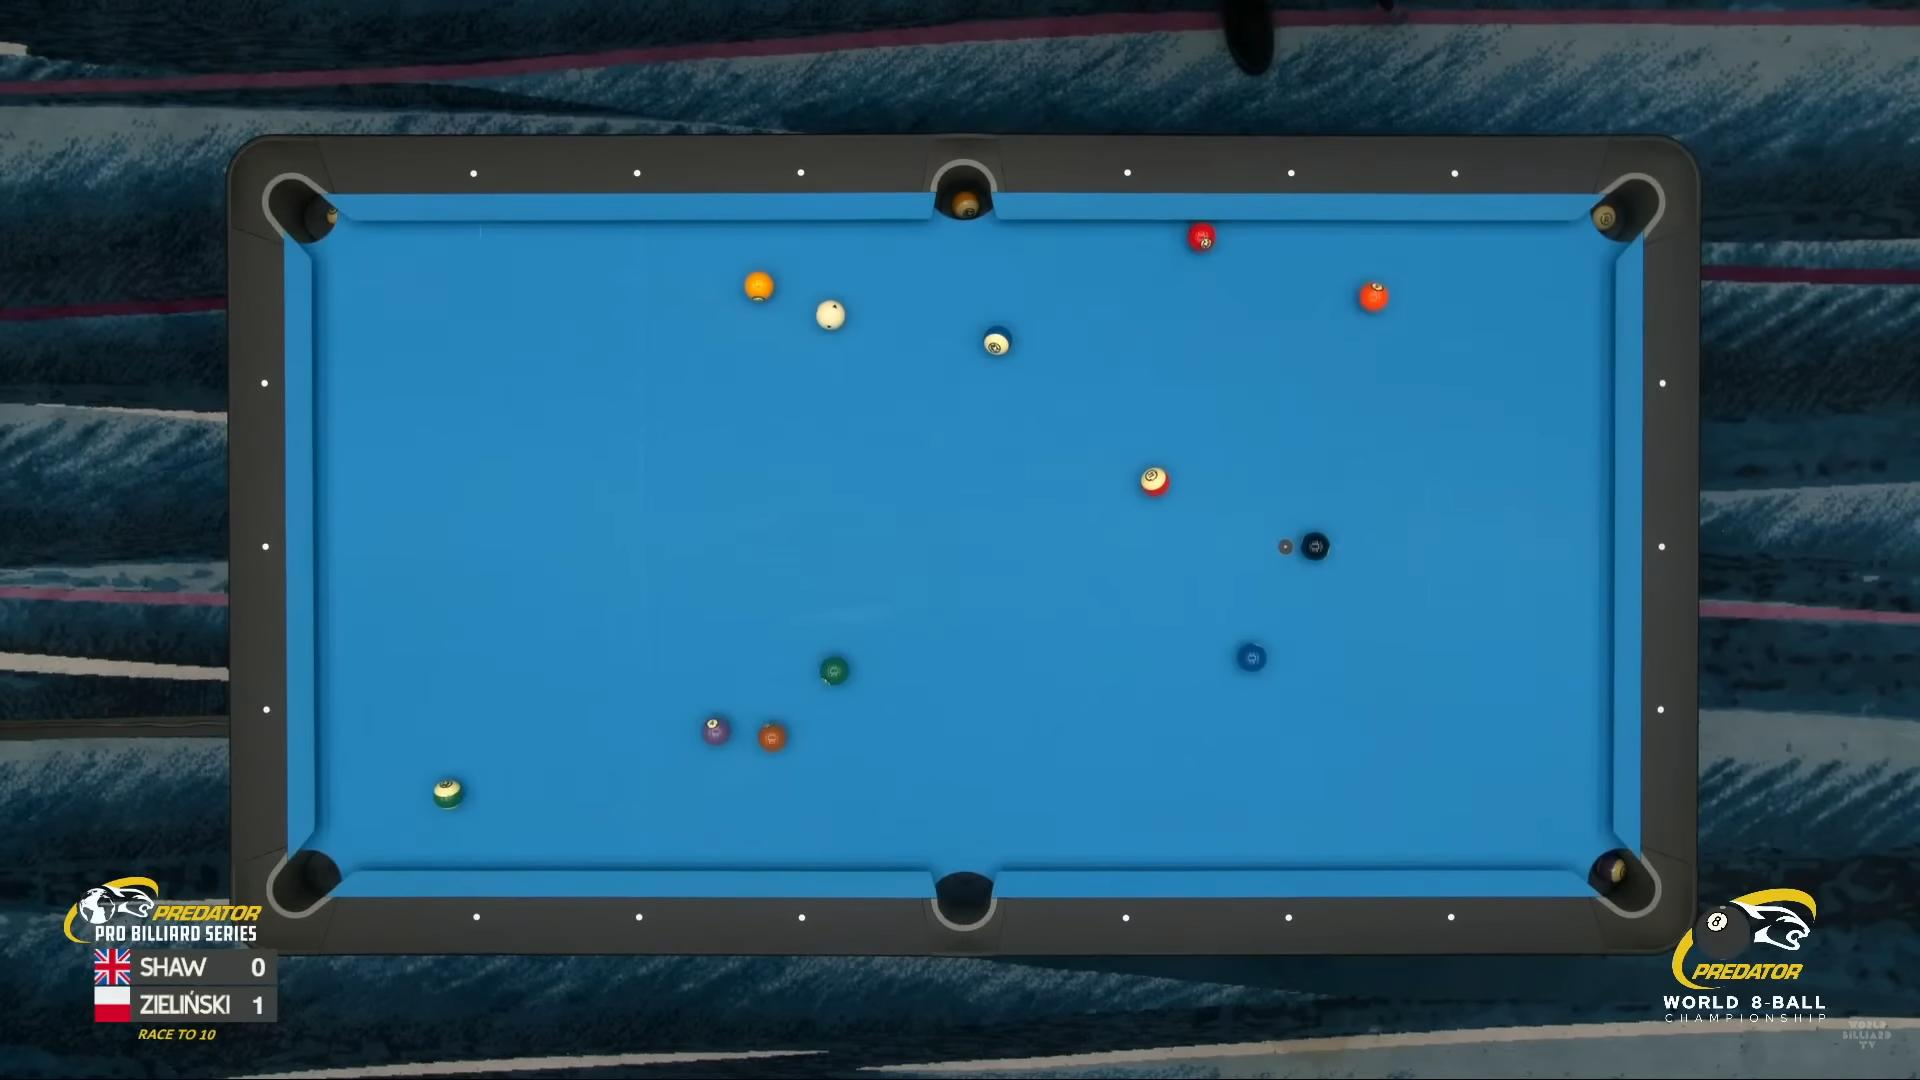Black: (1302, 531, 1331, 560)
Cue: (816, 301, 847, 331)
Dot: (257, 376, 272, 390), (465, 166, 480, 181), (1448, 166, 1462, 181), (1655, 377, 1669, 392), (1654, 703, 1668, 717), (794, 910, 808, 924), (632, 910, 646, 924), (630, 166, 645, 179), (794, 166, 808, 179), (1120, 166, 1134, 179), (1284, 166, 1299, 179), (1655, 541, 1669, 554), (1118, 910, 1131, 924), (469, 910, 483, 924), (260, 703, 273, 716), (258, 541, 272, 554), (1444, 910, 1457, 923), (1282, 911, 1295, 924)
Solid: (758, 720, 789, 750), (1237, 644, 1267, 673), (1358, 281, 1389, 310), (745, 272, 774, 302), (822, 655, 851, 686), (703, 716, 732, 745), (1188, 222, 1216, 251)
Striped: (1141, 467, 1171, 497), (984, 326, 1013, 356), (434, 778, 463, 808)
